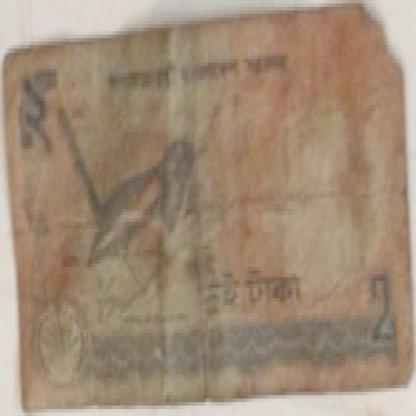two taka: (190, 267, 316, 326), (16, 73, 62, 163)
